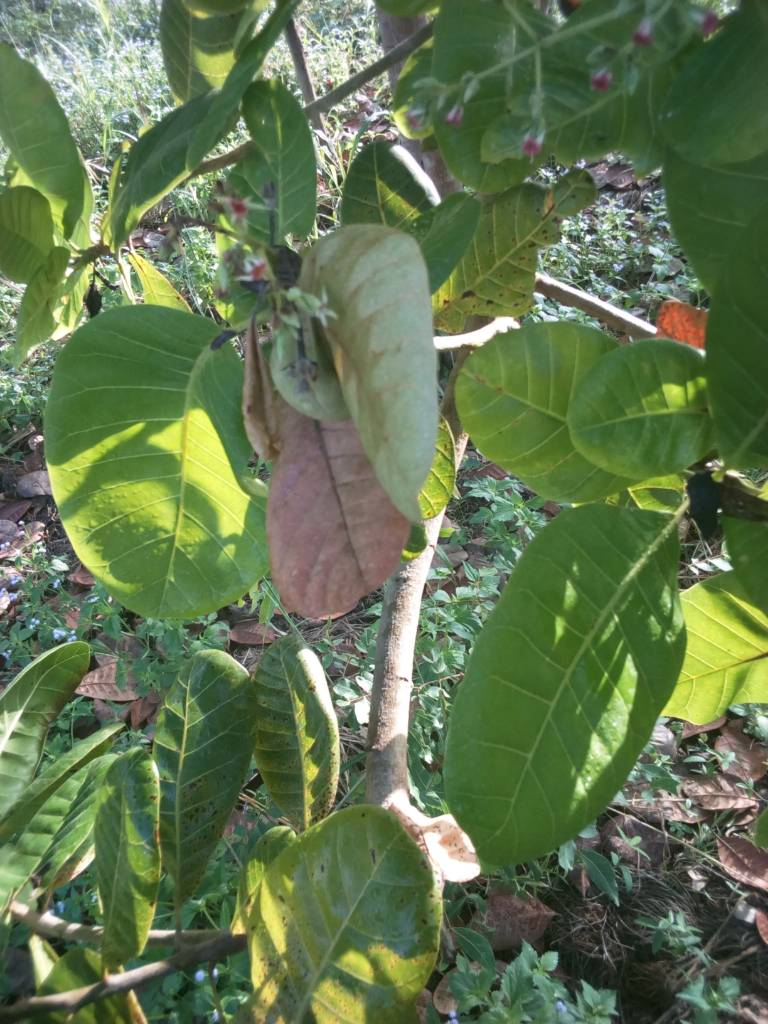Anthracnose: (246, 799, 449, 1016), (432, 167, 600, 322)
